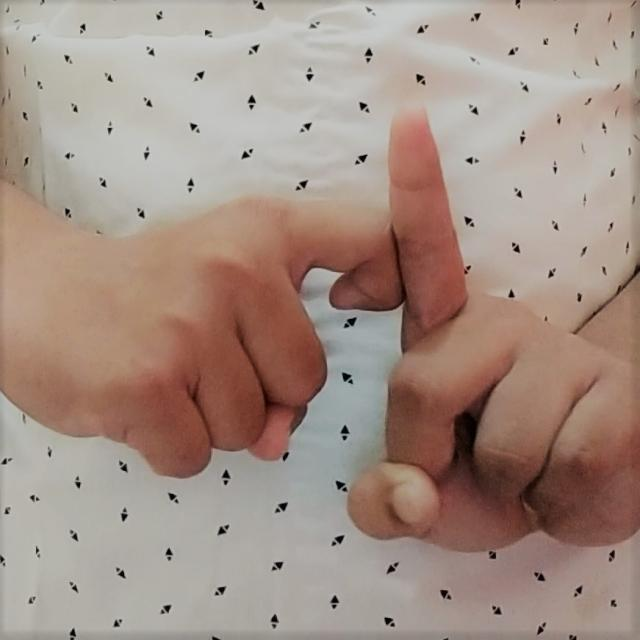K: (61, 98, 618, 565)
